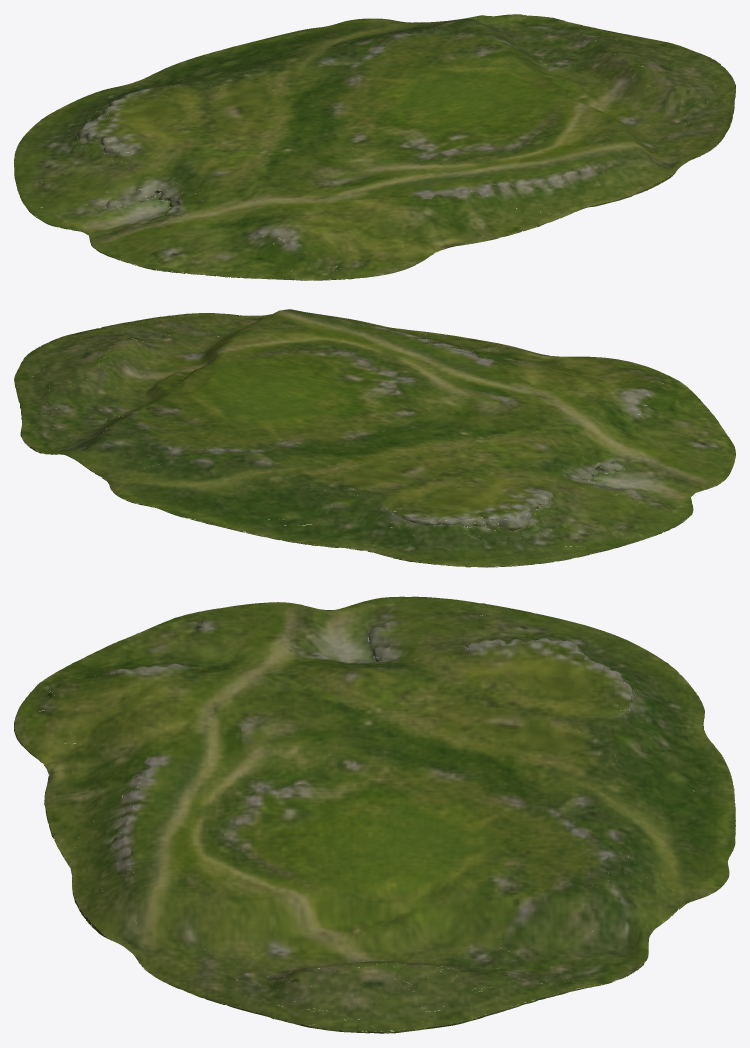
3 views of the same model, one above another, from view 1: azimuth 30°, elevation 25°; view 2: azimuth 150°, elevation 25°; view 3: azimuth 270°, elevation 25° (orthographic). The views are drawn at different scales.
Parts seen in each view (by area): view 1: Mesh_0; view 2: Mesh_0; view 3: Mesh_0.
Part boxes in pixels (bbox=[...]): Mesh_0: bbox=[14, 14, 735, 280]; Mesh_0: bbox=[14, 309, 735, 567]; Mesh_0: bbox=[14, 596, 735, 1033].
Bounding box in the file's own units: 270 × 9.57 × 190.
1 material, 1 textured.
